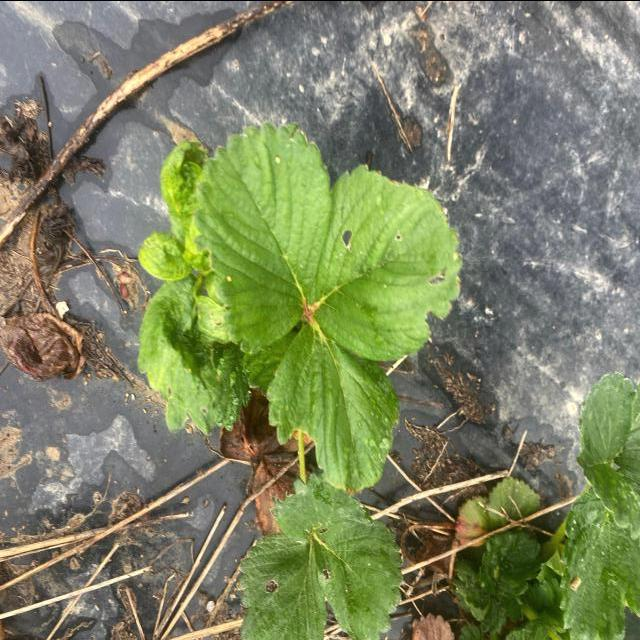flower: (193, 121, 474, 494)
